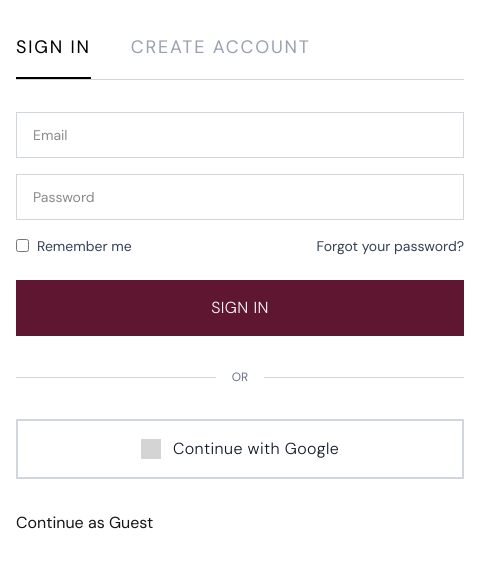
Login Page › Rendering › switches to the create account form when tab is clicked
This screenshot has width=481, height=563.
Step 1. Click the tab "CREATE ACCOUNT" → point(221, 56), box [131, 33, 311, 79]
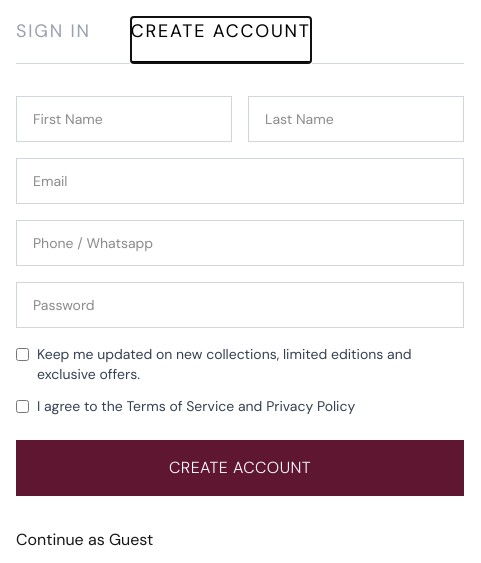
Check: the field with placeholder "First Name" is shown, box [16, 96, 232, 142]
Check: the field with placeholder "Last Name" is shown, box [248, 96, 464, 142]
